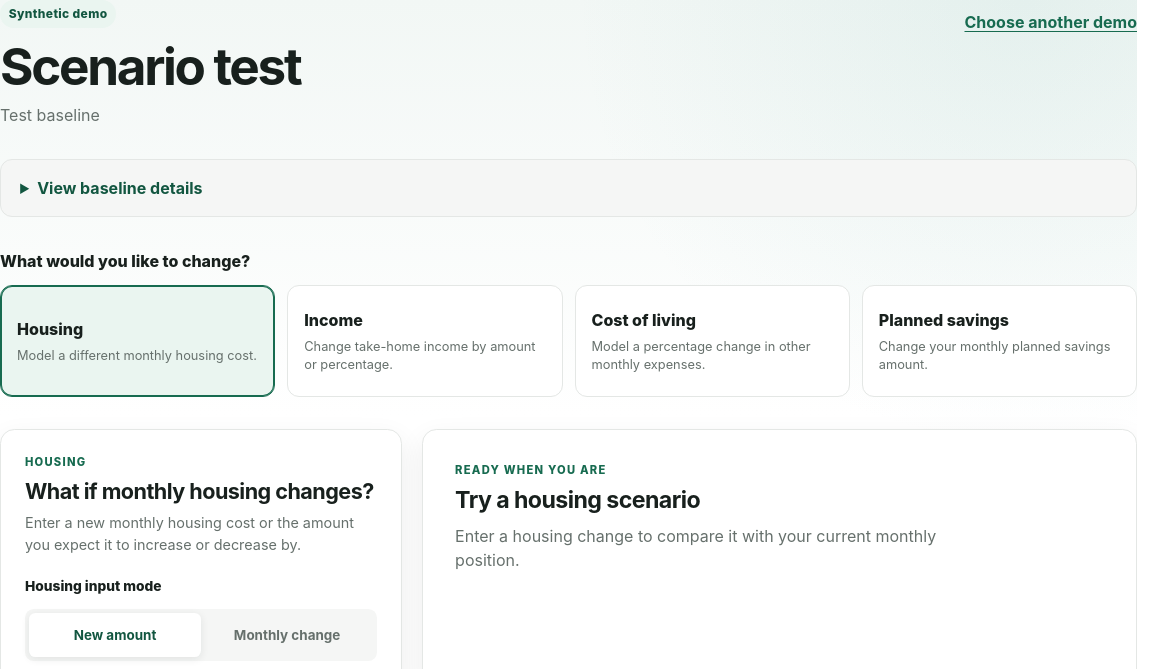
Scenario: ScenarioLab › changes savings without describing it as spending or changing core surplus
This screenshot has width=1152, height=669.
Step 1. Click the button "Planned savings Change your monthly planned savings amount." → (999, 340), box [862, 284, 1137, 396]
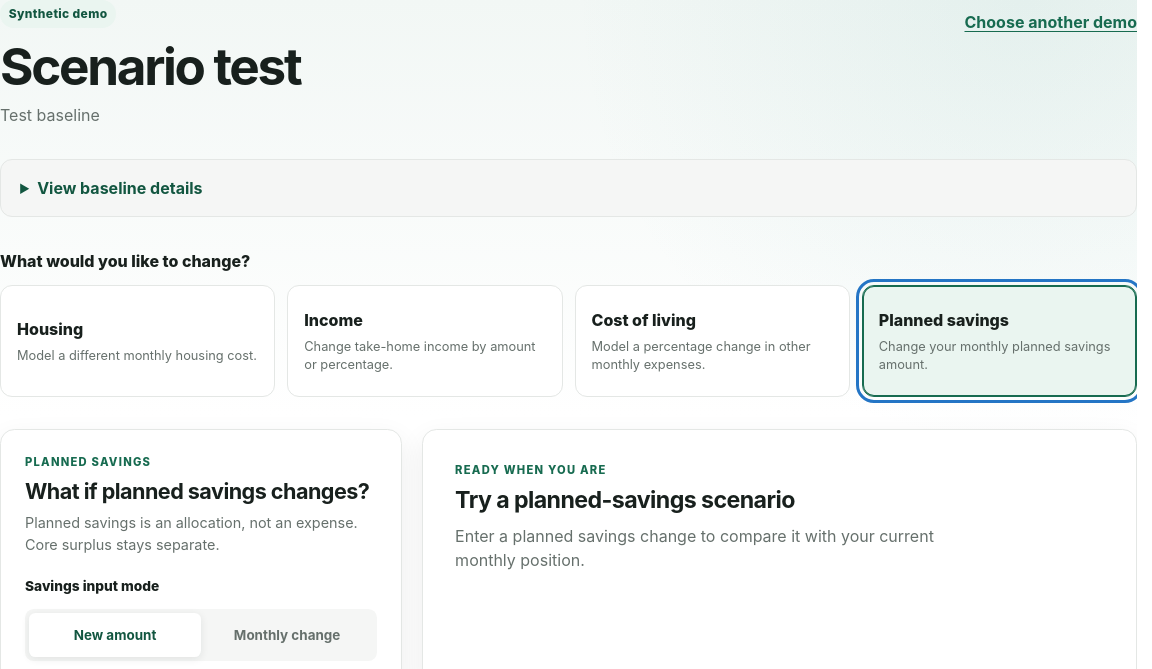
Step 2. Click the button "Monthly change" → (287, 635), box [201, 613, 373, 657]
(page scrolled)
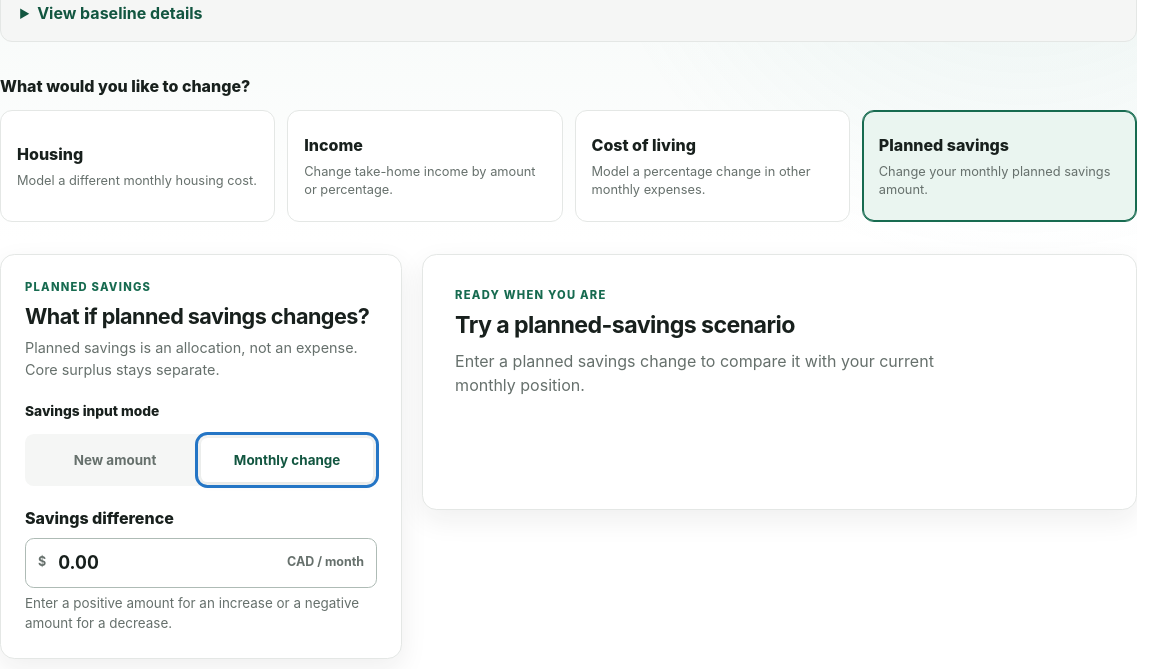
Step 3. Replace the text in the field labelled "Savings difference" with "50" → (167, 563), box [58, 539, 275, 587]
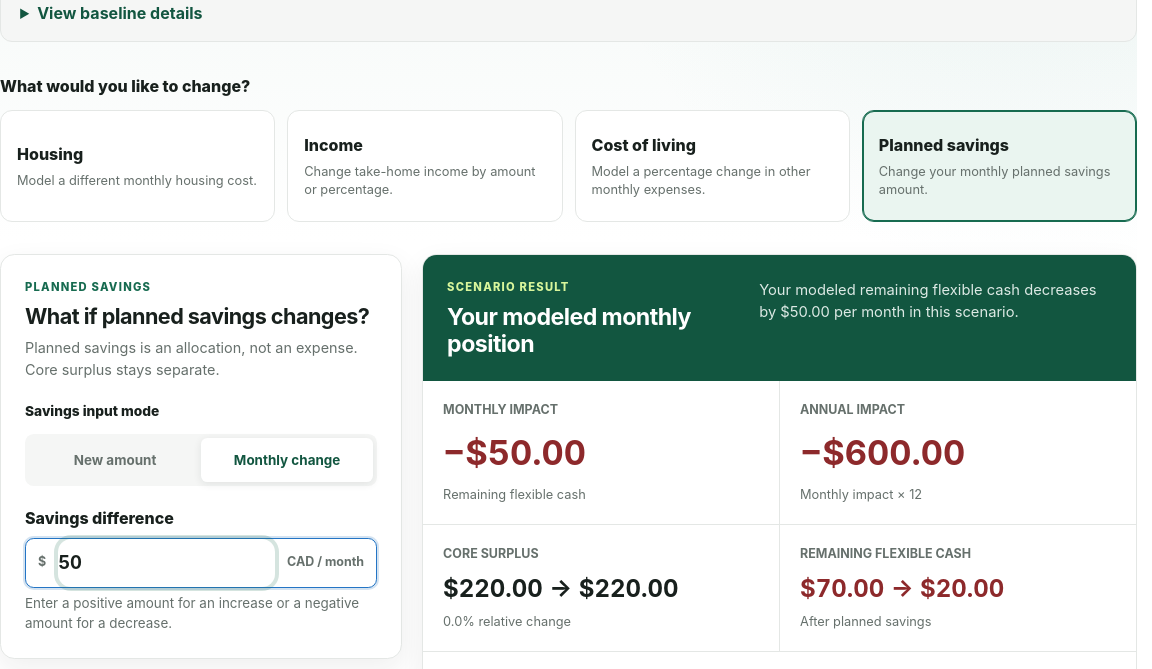
Expected: the text "allocation, not an expense" is shown, [25, 339, 358, 378]
Step 4. Replace the text in the field labelled "Savings difference" with "-50" → (167, 563), box [58, 539, 275, 587]
(page scrolled)
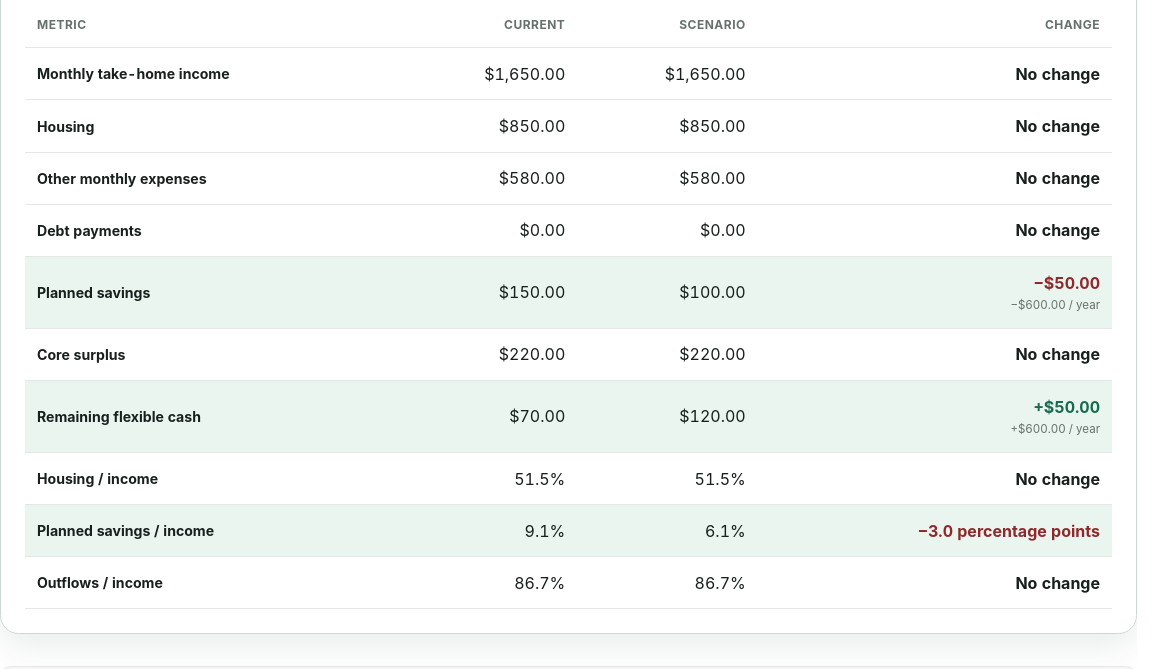
Expected: the text "$100.00" is shown, [577, 256, 758, 328]
Expected: the text "$120.00" is shown, [577, 381, 758, 452]
